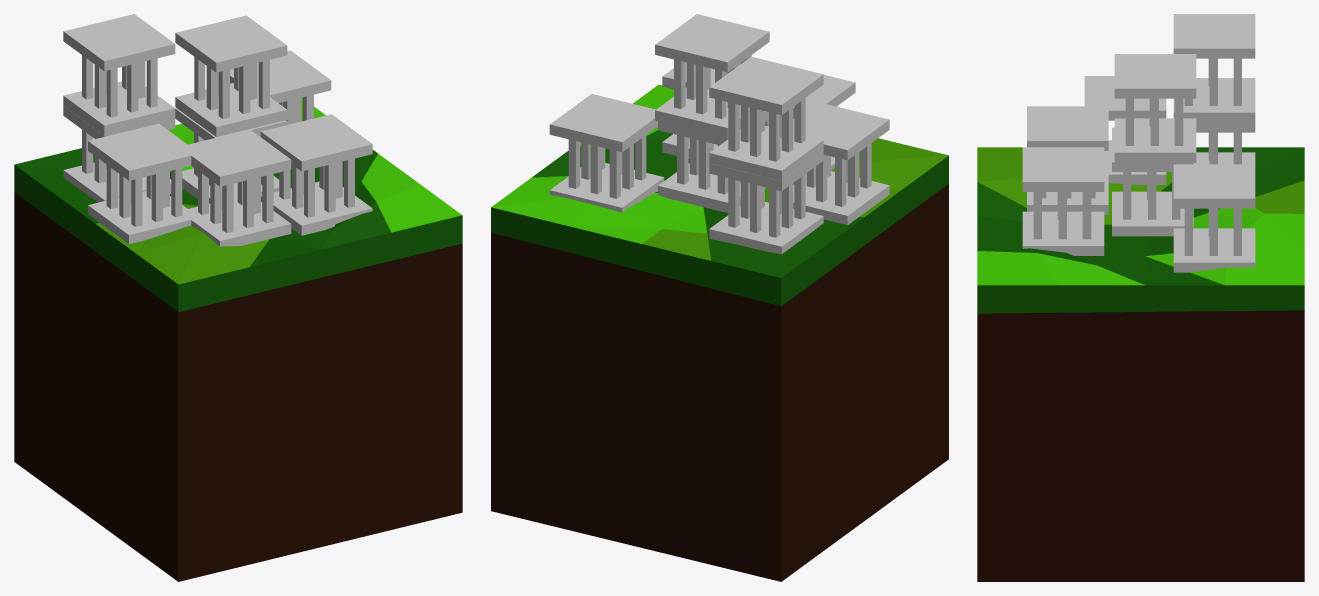
File: _test_city.obj
3 views of the same model, side by side, from view 1: azimuth 30°, elevation 25°; view 2: azimuth 150°, elevation 25°; view 3: azimuth 270°, elevation 25° (orthographic). The views are drawn at different scales.
Visible parts, largest first — view 1: grass.001_Cube.019; view 2: grass.001_Cube.019; view 3: grass.001_Cube.019.
Boxes of the visible parts, x1=… form: grass.001_Cube.019: x1=14, y1=14, x2=462, y2=581; grass.001_Cube.019: x1=491, y1=14, x2=948, y2=581; grass.001_Cube.019: x1=977, y1=14, x2=1304, y2=581.
Bounding box in the file's own units: 2 × 2.98 × 2.
